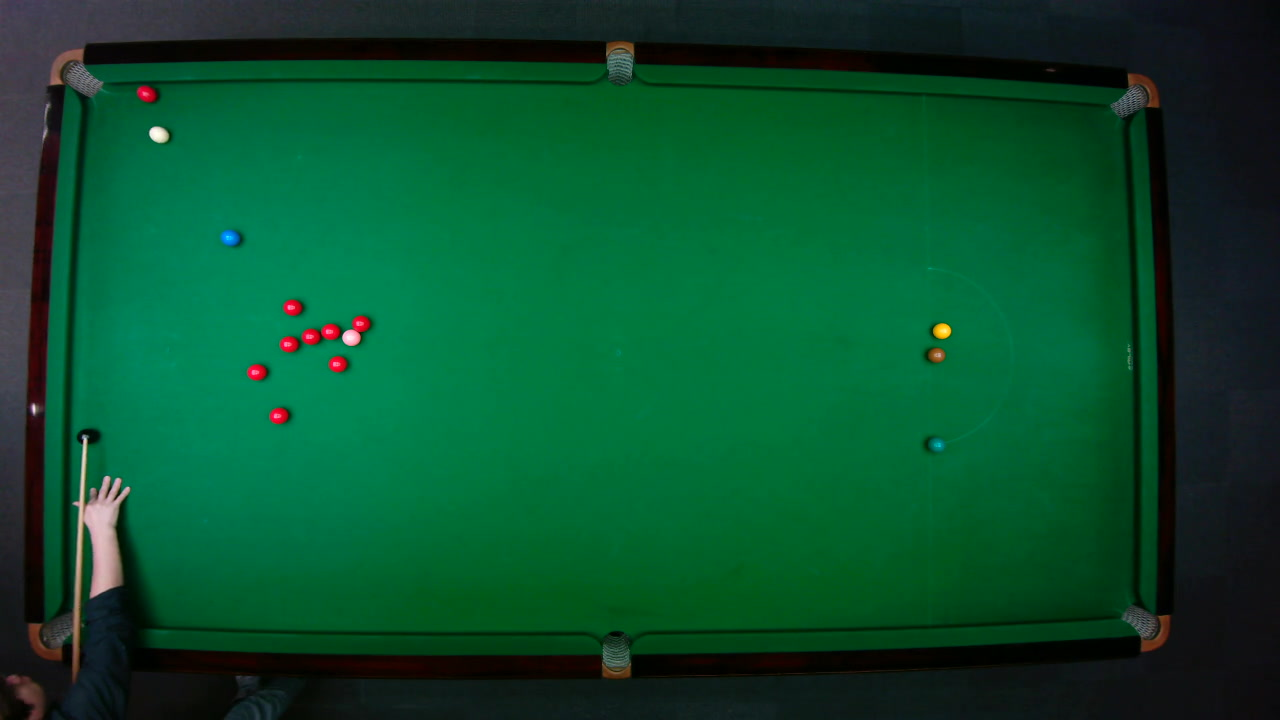bag: (26, 609, 83, 661), (47, 48, 103, 97), (1118, 603, 1170, 651), (1108, 72, 1160, 119), (600, 629, 630, 679), (605, 39, 633, 86)
black: (75, 428, 97, 444)
blue: (218, 228, 240, 246)
brown: (925, 346, 945, 362)
cue: (69, 434, 94, 685)
green: (925, 435, 945, 452)
pink: (340, 328, 362, 346)
red: (245, 362, 267, 381), (135, 83, 157, 102), (350, 313, 371, 332), (327, 354, 348, 373), (267, 406, 289, 424), (299, 327, 321, 345), (277, 334, 299, 352), (281, 298, 303, 315), (319, 322, 340, 339)
white: (147, 124, 170, 143)
yellow: (931, 321, 952, 339)
zone: (925, 265, 1013, 445)
